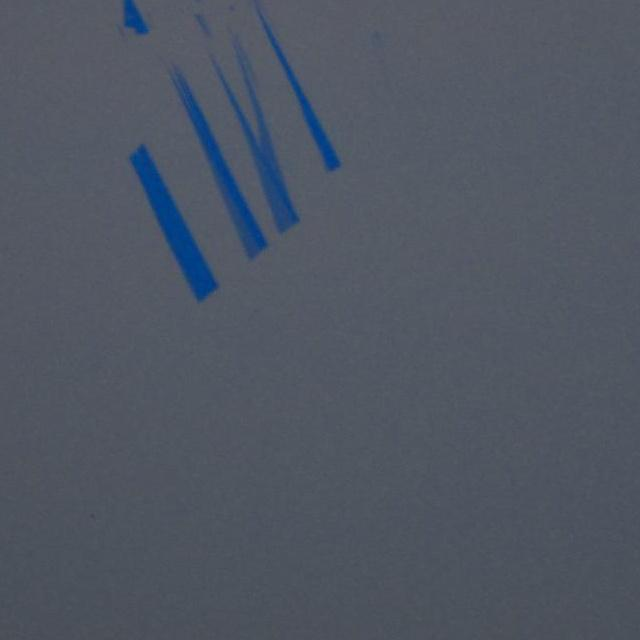monolayer-eWW4: (230, 37, 284, 181), (200, 148, 262, 262), (240, 128, 292, 234)
